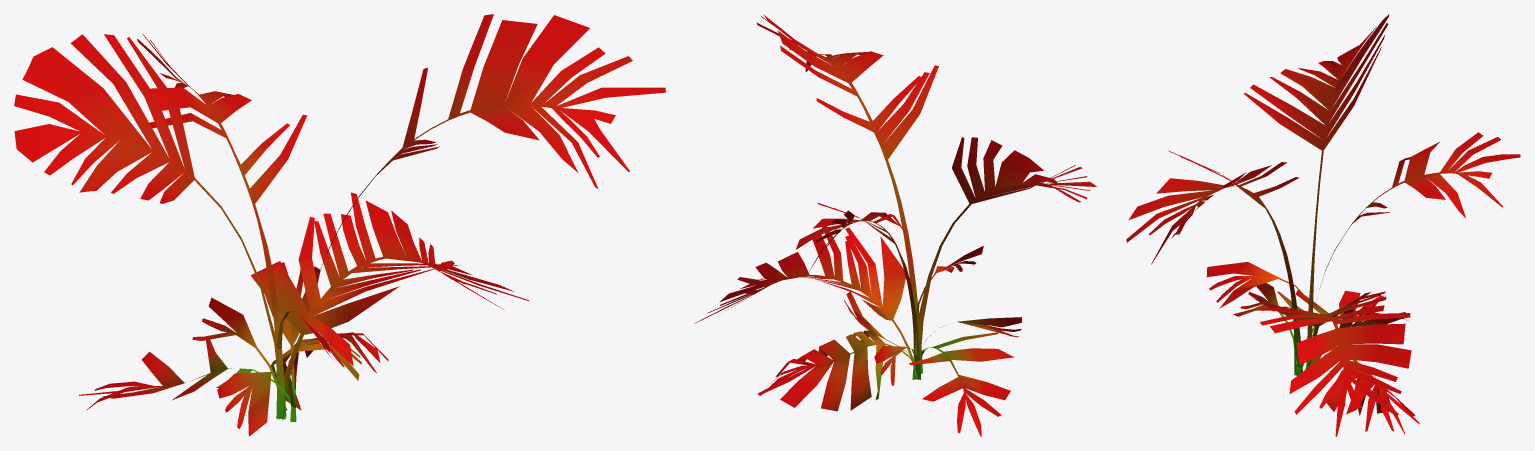
Rendered from Areca Palm_LOD1_Var4_shFjC.fbx.
3 views of the same model, side by side, from view 1: azimuth 30°, elevation 25°; view 2: azimuth 150°, elevation 25°; view 3: azimuth 270°, elevation 25° (orthographic). The views are drawn at different scales.
Visible parts, largest first — view 1: _d1b9_Var4_LOD1; view 2: _d1b9_Var4_LOD1; view 3: _d1b9_Var4_LOD1.
Part boxes in pixels (bbox=[...]): _d1b9_Var4_LOD1: bbox=[14, 14, 665, 436]; _d1b9_Var4_LOD1: bbox=[694, 14, 1096, 436]; _d1b9_Var4_LOD1: bbox=[1126, 14, 1520, 436].
Bounding box in the file's own units: 203 × 150 × 169.
